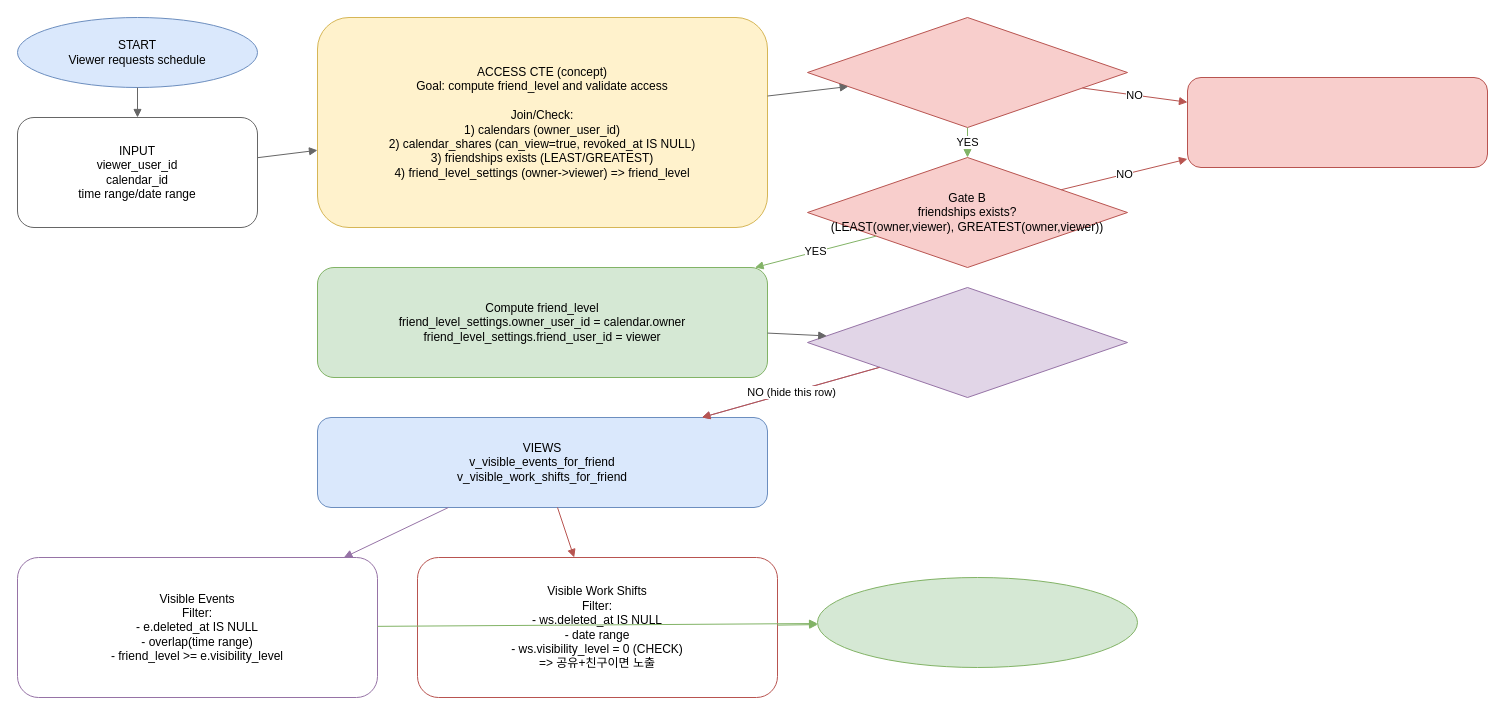
Image size: 1505x715. Some labels were removed from this diagram. Here are the shapes that lost their labels. From the top down, the centre of each, then its label:
At (967,72): "Gate A calendar_shares valid? (can_view=true AND revoked_at IS NULL)".
At (1337,122): "DENY return empty / 403".
At (967,342): "Gate C friend_level >= visibility_level ? 개인 일정1~5, 친구 레벨0은 근무표만".
At (977,622): "RESULT Return merged calendar feed (events + work_shifts)".
